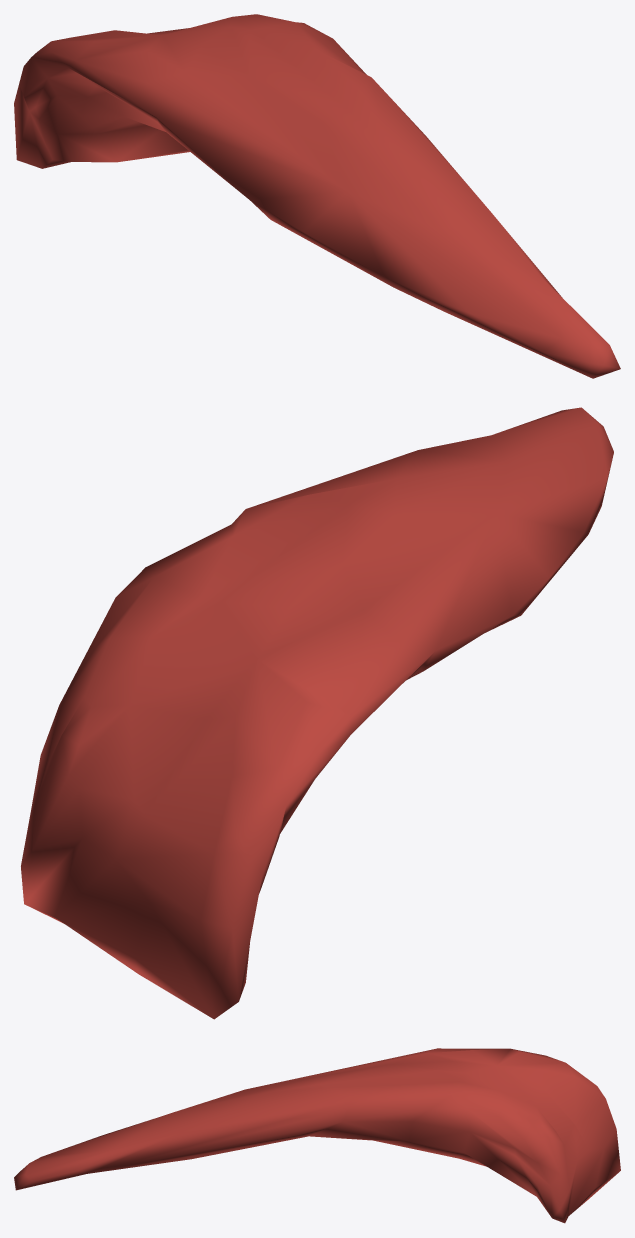
Rendered from musculos-geniohyoid-muscle-r.glb.
3 views of the same model, one above another, from view 1: azimuth 30°, elevation 25°; view 2: azimuth 150°, elevation 25°; view 3: azimuth 270°, elevation 25° (orthographic). The views are drawn at different scales.
Visible parts, largest first — view 1: Geniohyoid muscle.r; view 2: Geniohyoid muscle.r; view 3: Geniohyoid muscle.r.
Boxes of the visible parts, x1,y1,x2,y2 form: Geniohyoid muscle.r: (14,14,620,378); Geniohyoid muscle.r: (21,407,613,1019); Geniohyoid muscle.r: (14,1048,620,1223).
Size of the model in its own units: 0.0112 by 0.0101 by 0.0401.
